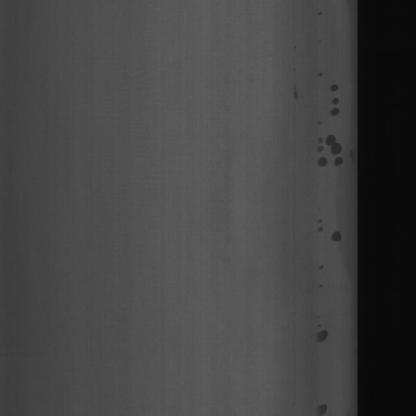oil_spot: (315, 120, 351, 175), (311, 205, 327, 290), (326, 71, 340, 121), (314, 324, 330, 351), (330, 230, 342, 250), (314, 396, 327, 414)
